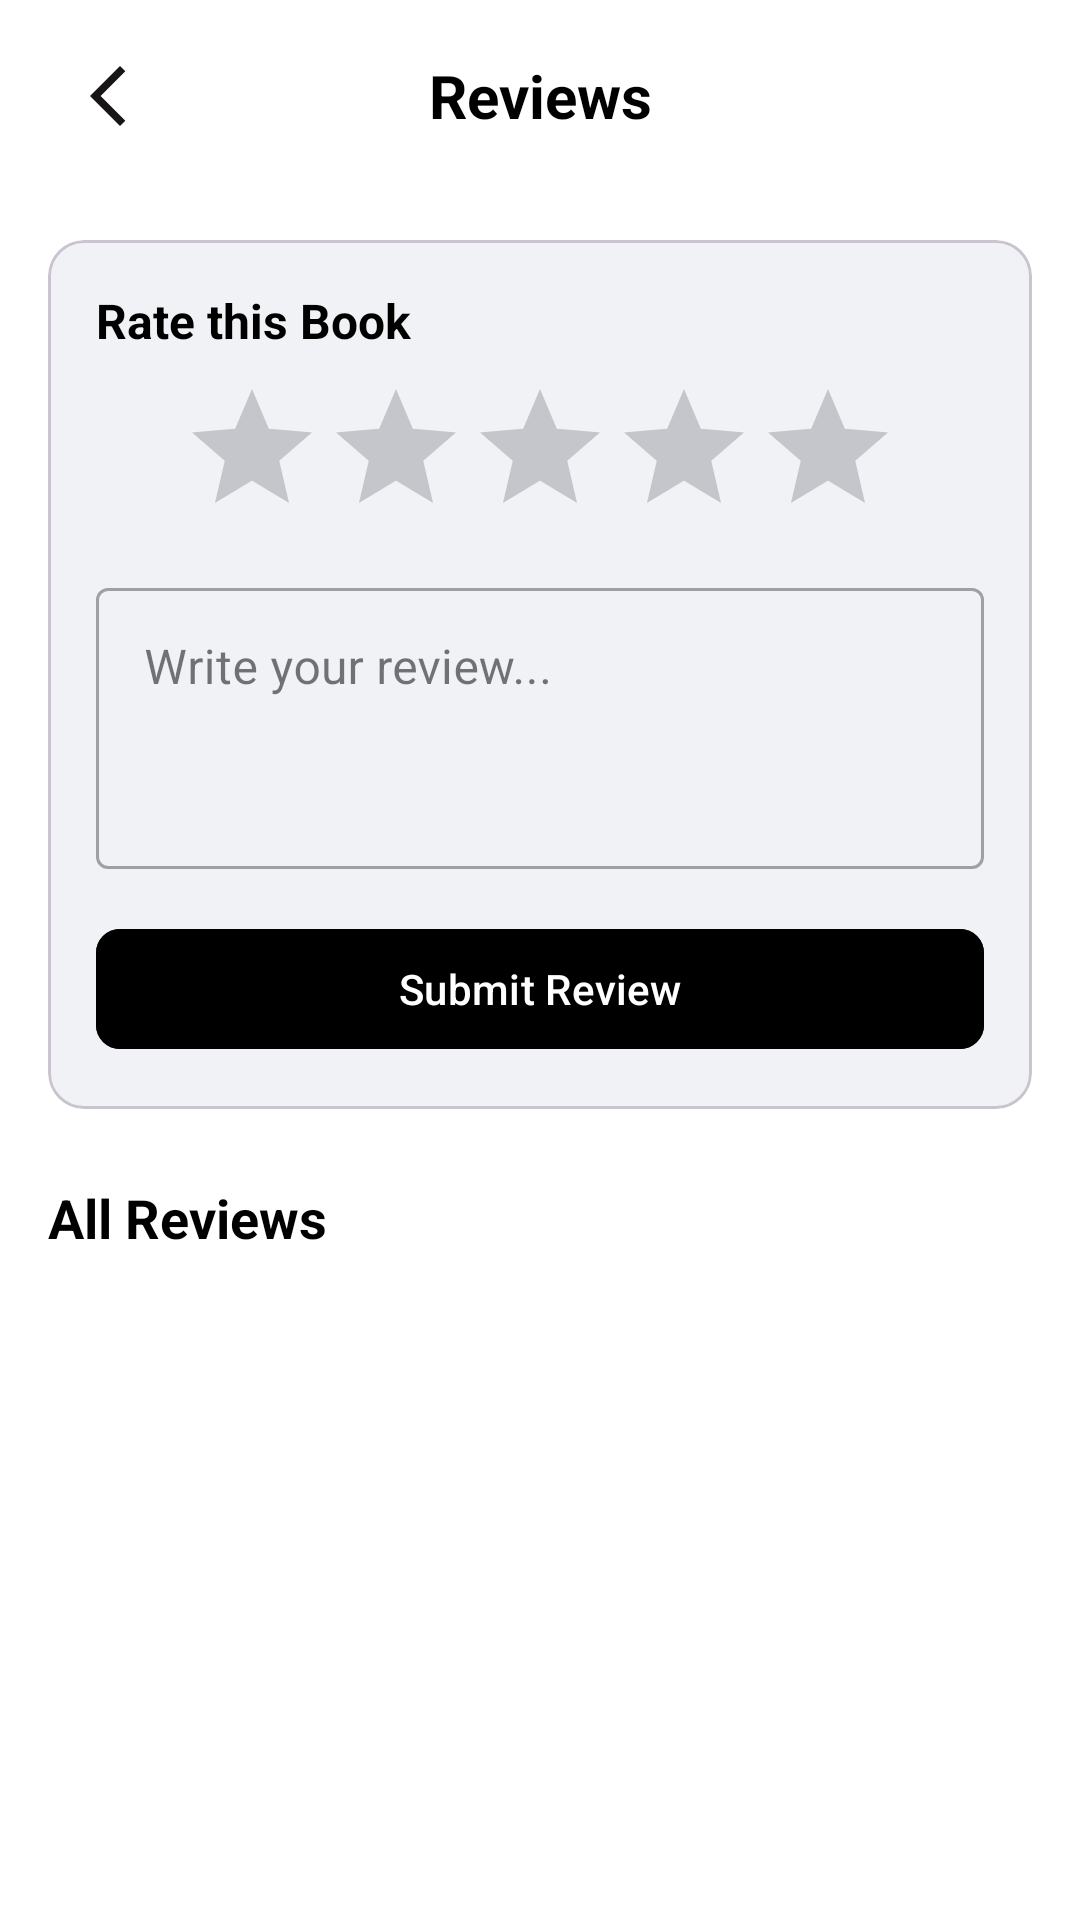

Point at icon controls on the screen. Image size 1080x1920, points as [x,y].
arrow back: [107,96]
